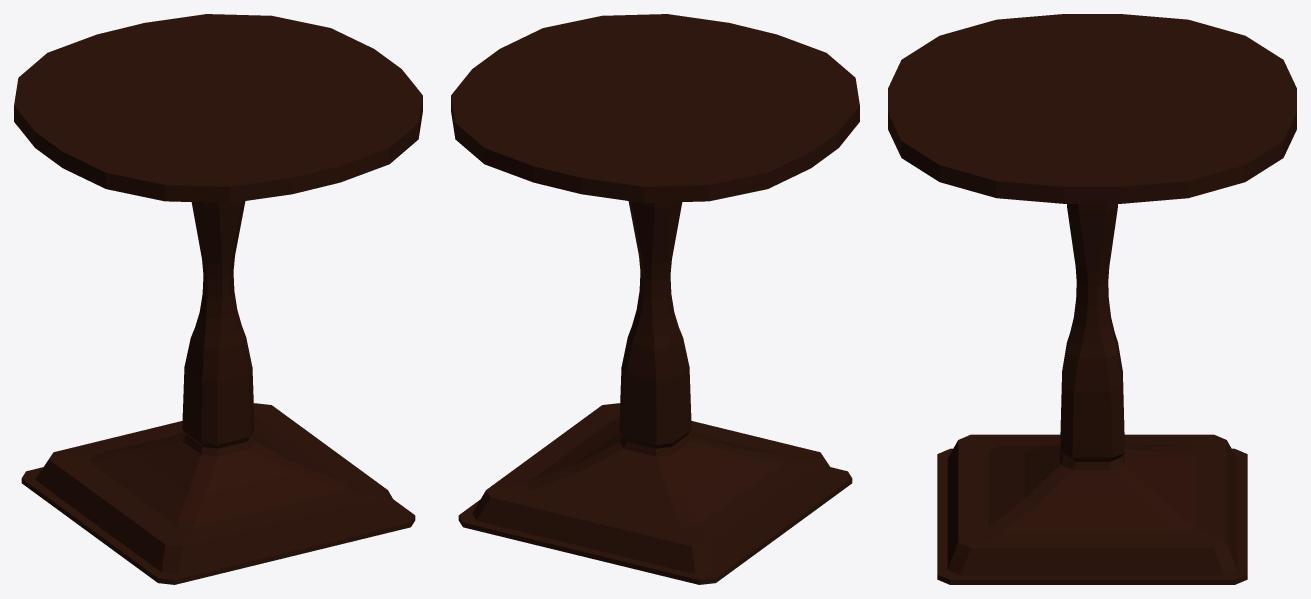
Rendered from SmallTable.fbx.
3 views of the same model, side by side, from view 1: azimuth 30°, elevation 25°; view 2: azimuth 150°, elevation 25°; view 3: azimuth 270°, elevation 25° (orthographic). The views are drawn at different scales.
Visible parts, largest first — view 1: SmallTable; view 2: SmallTable; view 3: SmallTable.
Part boxes in pixels (bbox=[...]): SmallTable: bbox=[14, 14, 422, 584]; SmallTable: bbox=[451, 14, 859, 584]; SmallTable: bbox=[888, 14, 1296, 584].
Bounding box in the file's own units: 440 × 498 × 440.
